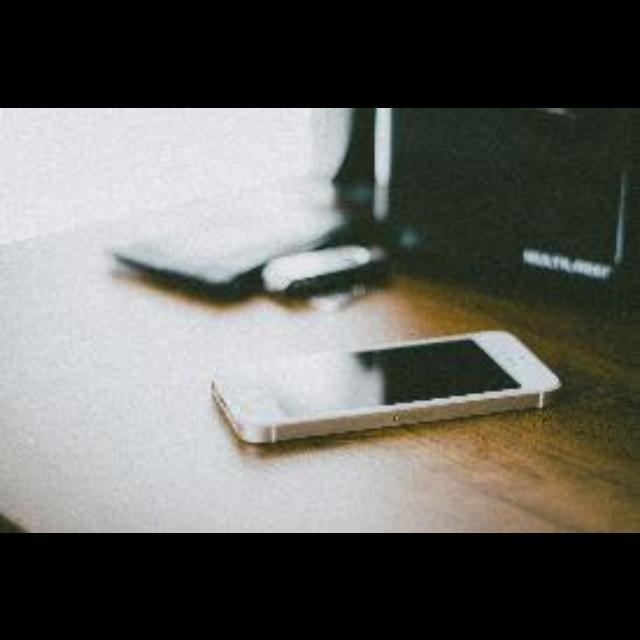phone: (183, 317, 575, 465)
